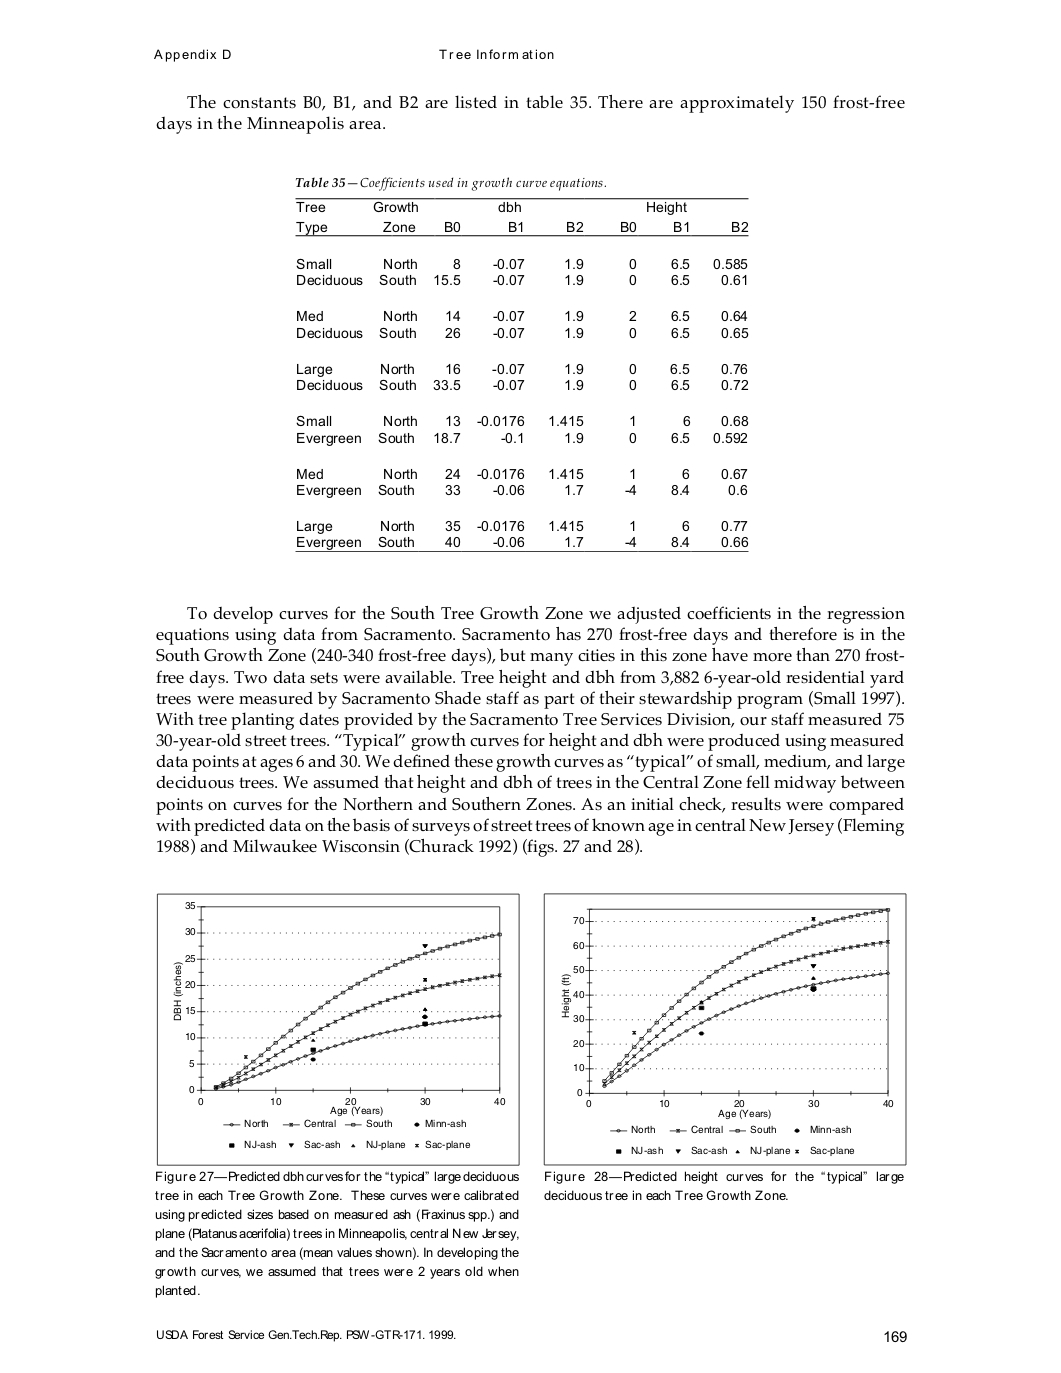Table: (295, 198, 748, 551)
figure: (156, 892, 519, 1166), (543, 892, 906, 1166)
